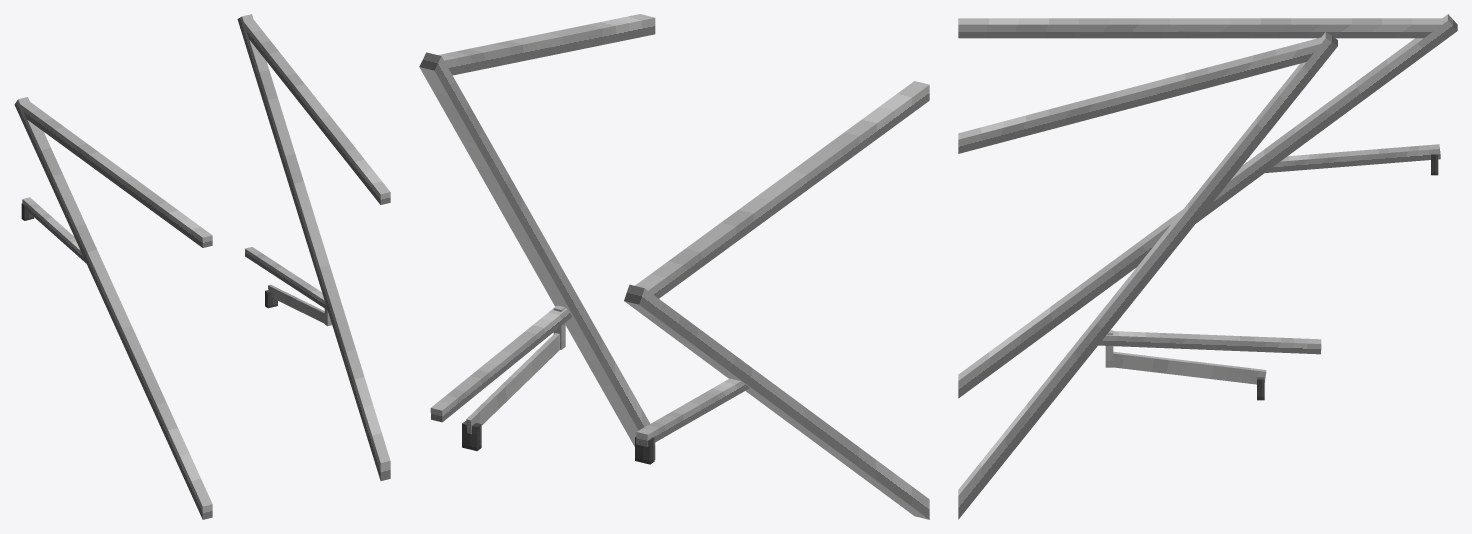
The model's file is cantilever_inner_16px.obj.
3 views of the same model, side by side, from view 1: azimuth 30°, elevation 25°; view 2: azimuth 150°, elevation 25°; view 3: azimuth 270°, elevation 25° (orthographic). The views are drawn at different scales.
Parts seen in each view (by area): view 1: 83f86631-daf0-4307-bf58-001d3c64001e, c6fd8aba-2193-425e-9952-320822903cdc, 76b172da-ccdd-4f30-a737-02dd5422d835, 45666818-1253-4a14-8e4d-d69a4462f419, 69ea4595-b2ea-4875-861a-f772e940e2a2, 10fc711b-870f-4dd0-9885-f746162ea893, 0e9b715c-8ce5-4d29-83df-9f002a8c4ec8; view 2: 83f86631-daf0-4307-bf58-001d3c64001e, 76b172da-ccdd-4f30-a737-02dd5422d835, c6fd8aba-2193-425e-9952-320822903cdc, 45666818-1253-4a14-8e4d-d69a4462f419, 69ea4595-b2ea-4875-861a-f772e940e2a2, 10fc711b-870f-4dd0-9885-f746162ea893, 0e9b715c-8ce5-4d29-83df-9f002a8c4ec8; view 3: 83f86631-daf0-4307-bf58-001d3c64001e, c6fd8aba-2193-425e-9952-320822903cdc, 76b172da-ccdd-4f30-a737-02dd5422d835, 45666818-1253-4a14-8e4d-d69a4462f419, 69ea4595-b2ea-4875-861a-f772e940e2a2, 10fc711b-870f-4dd0-9885-f746162ea893, 0e9b715c-8ce5-4d29-83df-9f002a8c4ec8.
Boxes of the visible parts, x1=… form: 83f86631-daf0-4307-bf58-001d3c64001e: x1=237, y1=14, x2=390, y2=480; c6fd8aba-2193-425e-9952-320822903cdc: x1=14, y1=97, x2=212, y2=519; 76b172da-ccdd-4f30-a737-02dd5422d835: x1=20, y1=102, x2=212, y2=247; 45666818-1253-4a14-8e4d-d69a4462f419: x1=244, y1=19, x2=390, y2=204; 69ea4595-b2ea-4875-861a-f772e940e2a2: x1=245, y1=247, x2=327, y2=309; 10fc711b-870f-4dd0-9885-f746162ea893: x1=22, y1=197, x2=85, y2=262; 0e9b715c-8ce5-4d29-83df-9f002a8c4ec8: x1=268, y1=284, x2=324, y2=323; 83f86631-daf0-4307-bf58-001d3c64001e: x1=419, y1=52, x2=655, y2=459; 76b172da-ccdd-4f30-a737-02dd5422d835: x1=635, y1=81, x2=929, y2=298; c6fd8aba-2193-425e-9952-320822903cdc: x1=624, y1=284, x2=929, y2=519; 45666818-1253-4a14-8e4d-d69a4462f419: x1=438, y1=14, x2=655, y2=75; 69ea4595-b2ea-4875-861a-f772e940e2a2: x1=430, y1=306, x2=572, y2=422; 10fc711b-870f-4dd0-9885-f746162ea893: x1=636, y1=378, x2=749, y2=446; 0e9b715c-8ce5-4d29-83df-9f002a8c4ec8: x1=466, y1=333, x2=559, y2=434; 83f86631-daf0-4307-bf58-001d3c64001e: x1=958, y1=32, x2=1337, y2=519; c6fd8aba-2193-425e-9952-320822903cdc: x1=958, y1=14, x2=1457, y2=398; 76b172da-ccdd-4f30-a737-02dd5422d835: x1=958, y1=18, x2=1442, y2=38; 45666818-1253-4a14-8e4d-d69a4462f419: x1=958, y1=37, x2=1321, y2=153; 69ea4595-b2ea-4875-861a-f772e940e2a2: x1=1098, y1=331, x2=1321, y2=354; 10fc711b-870f-4dd0-9885-f746162ea893: x1=1265, y1=144, x2=1440, y2=172; 0e9b715c-8ce5-4d29-83df-9f002a8c4ec8: x1=1113, y1=351, x2=1266, y2=384.
Size of the model in its own units: 1.19 by 2.2 by 2.06.
